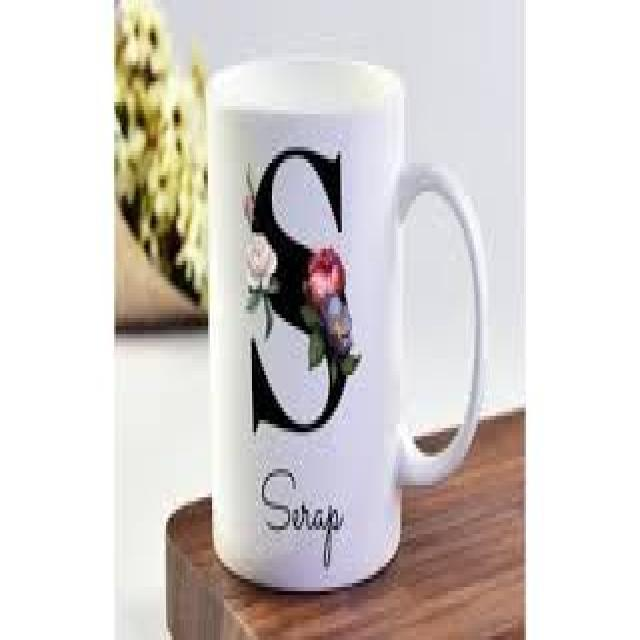taza: (206, 51, 489, 592)
